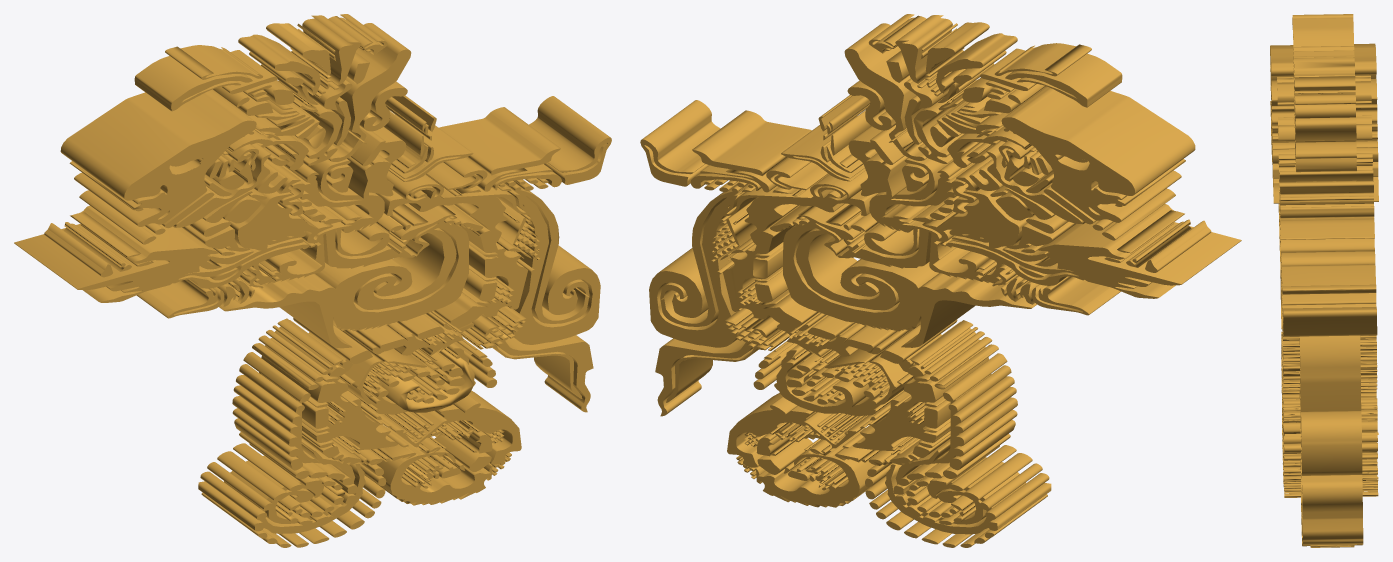
The model's file is goldpart10.glb.
3 renders of one model, left to right at view 1: azimuth 30°, elevation 25°; view 2: azimuth 150°, elevation 25°; view 3: azimuth 270°, elevation 25°, orthographic. The views are drawn at different scales.
Parts seen in each view (by area): view 1: Selection.485; view 2: Selection.485; view 3: Selection.485.
Boxes of the visible parts, left/top/right/bottom form: Selection.485: left=14, top=14, right=611, bottom=547; Selection.485: left=640, top=14, right=1241, bottom=547; Selection.485: left=1270, top=14, right=1378, bottom=547.
Size of the model in its own units: 0.6647 by 0.5758 by 0.1361.
